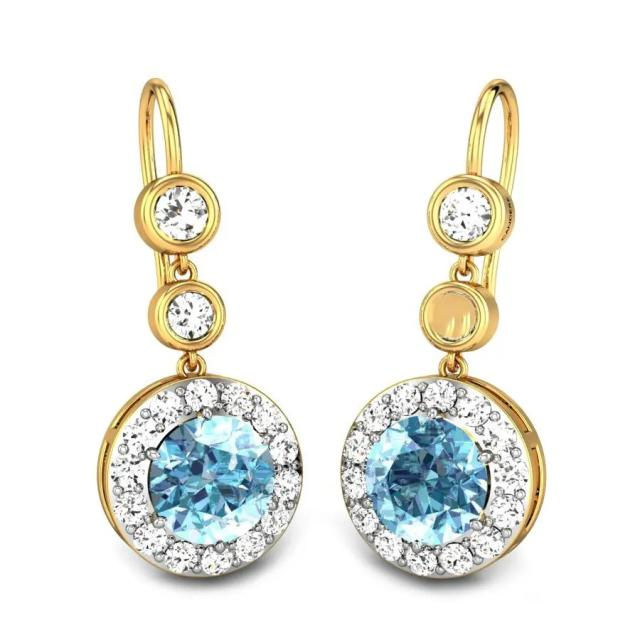missing gem: (430, 291, 475, 338)
